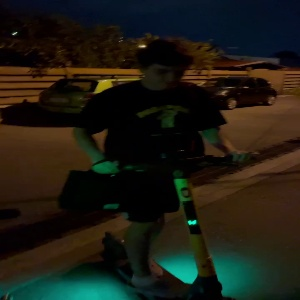human on a scooter: (52, 37, 260, 300)
